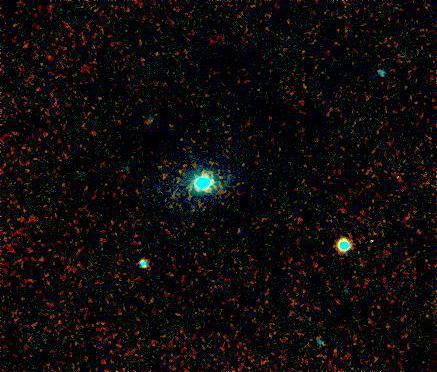star: (151, 162, 181, 192)
